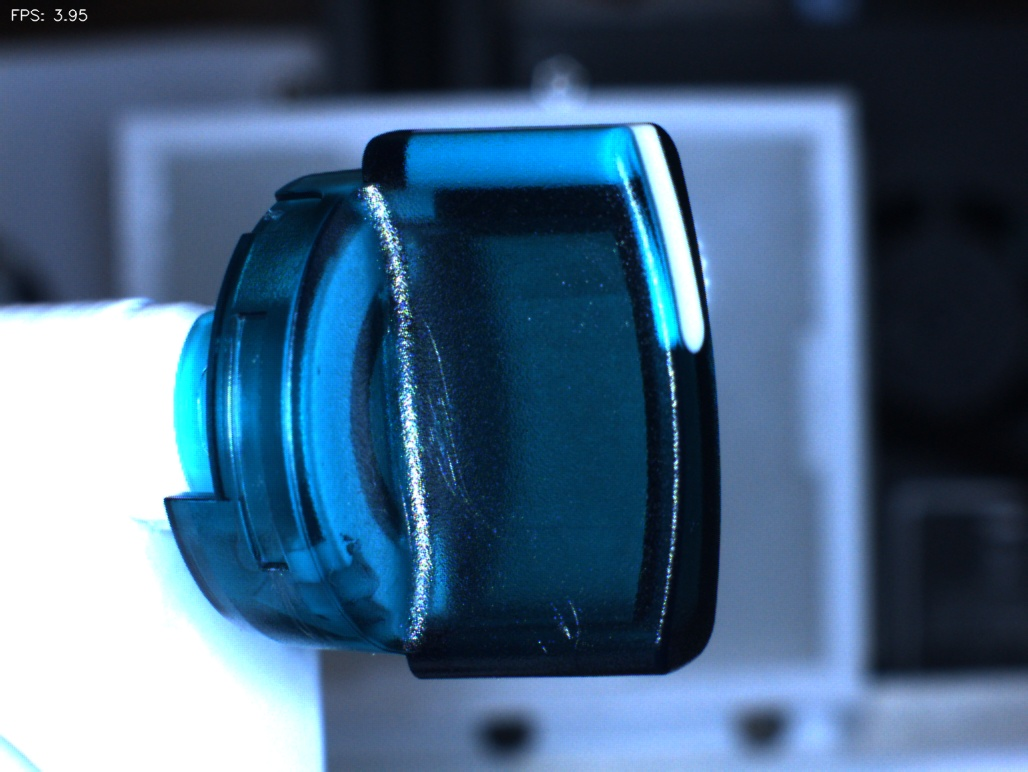Givrage: (401, 314, 502, 550)
